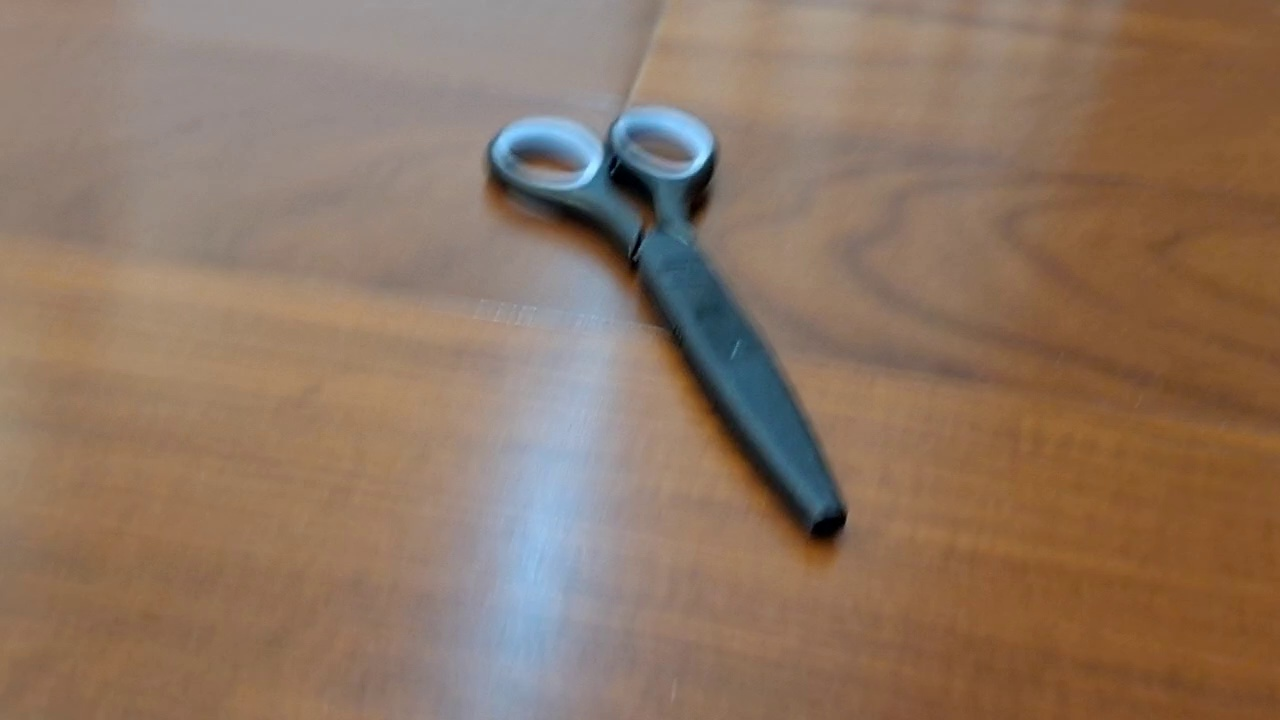scissors: (483, 104, 850, 542)
